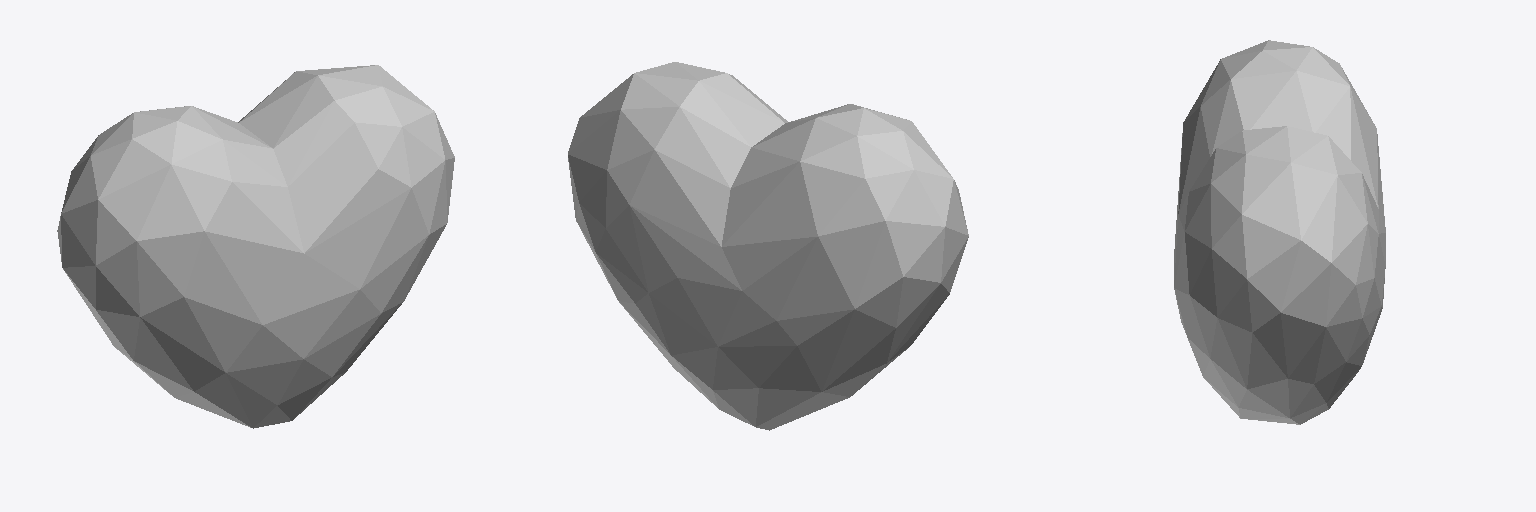
The model's file is Love.obj.
The picture shows the model from 3 angles: view 1: azimuth 30°, elevation 25°; view 2: azimuth 150°, elevation 25°; view 3: azimuth 270°, elevation 25°; orthographic projection.
Visible parts, largest first — view 1: Love; view 2: Love; view 3: Love.
Part boxes in pixels (bbox=[...]): Love: bbox=[57, 65, 454, 428]; Love: bbox=[568, 62, 968, 430]; Love: bbox=[1174, 40, 1385, 424].
Size of the model in its own units: 2.36 by 1.98 by 1.17.